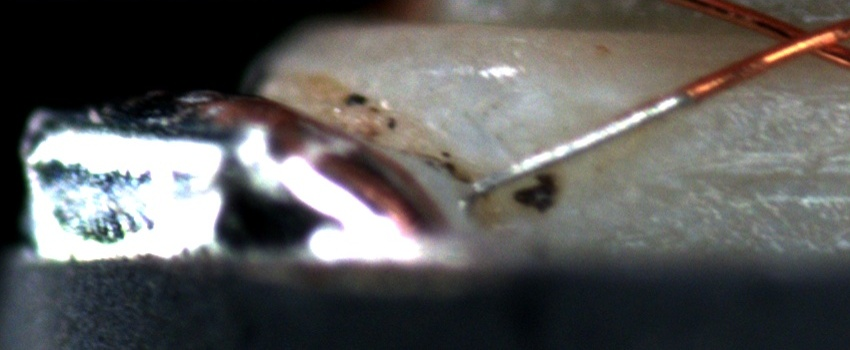CL: (755, 14, 844, 68)
DL: (643, 152, 850, 216)
TS: (470, 90, 690, 195)
